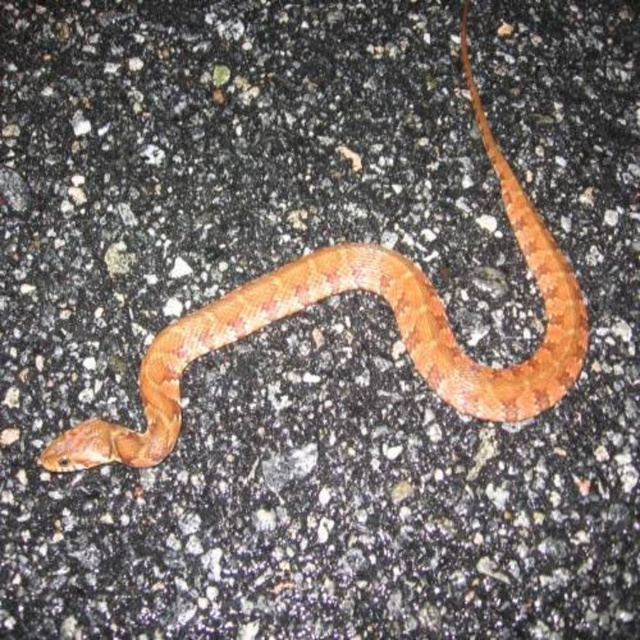Snake: (38, 0, 591, 472)
